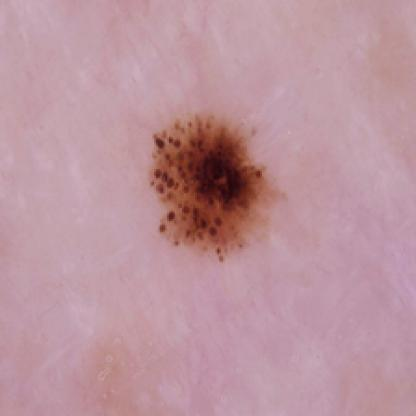Skin_Cancer-Malignant: (145, 111, 291, 268)
